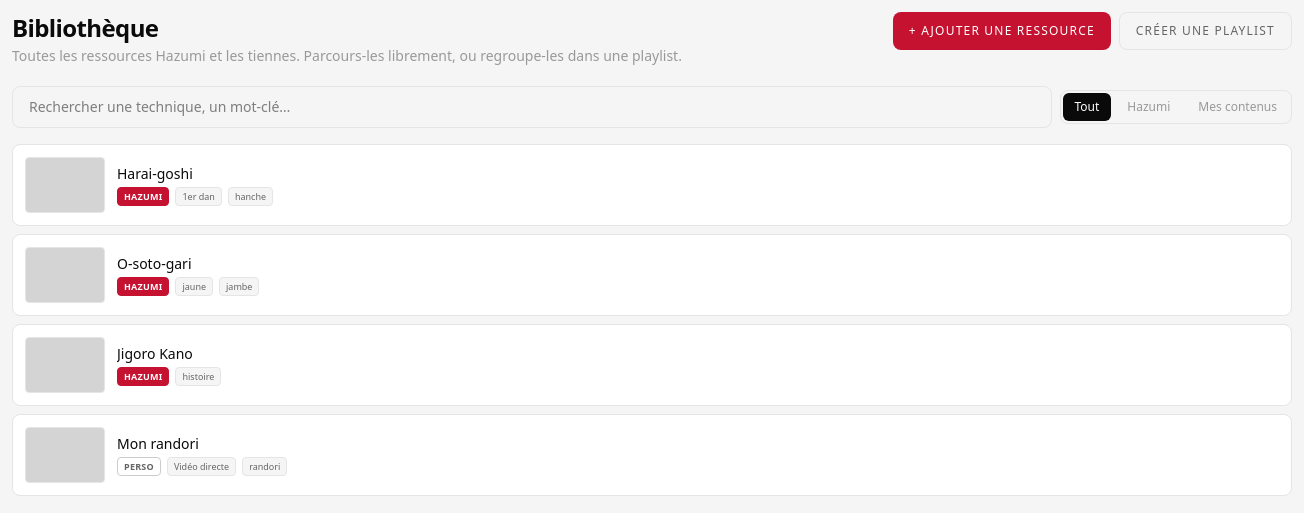
Bibliothèque — liste des ressources › permet de rechercher
Check: the heading "Harai-goshi" is shown, box [117, 164, 193, 183]
In the search field labelled "Rechercher une technique, un mot-clé…": (532, 107) [12, 86, 1052, 128], type "soto"
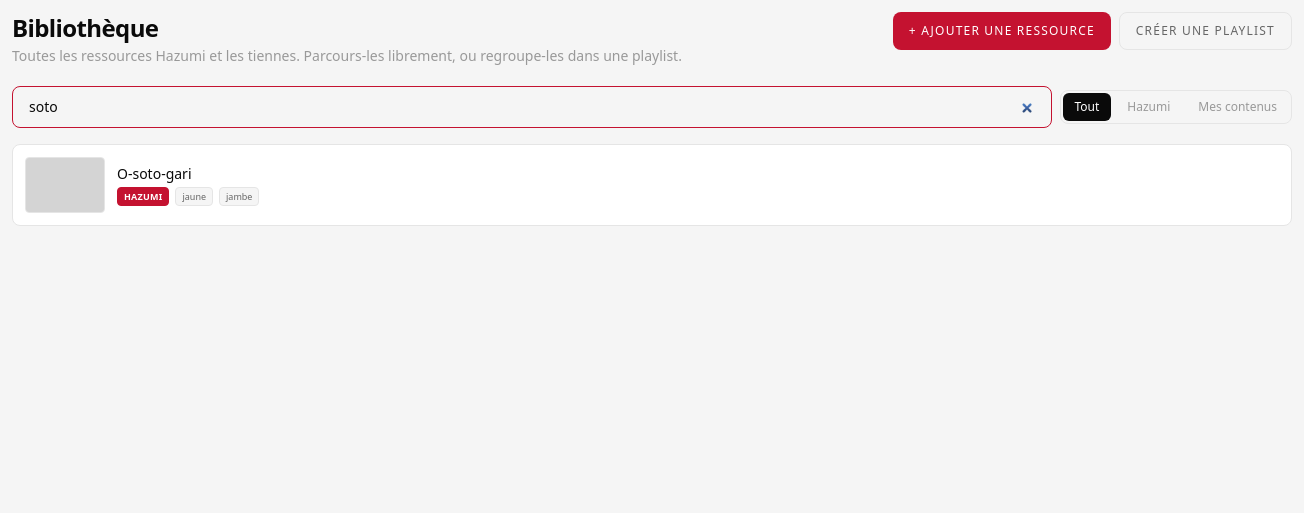
Check: the heading "O-soto-gari" is shown, box [117, 164, 192, 183]
Check: the button "Harai-goshi" is gone
